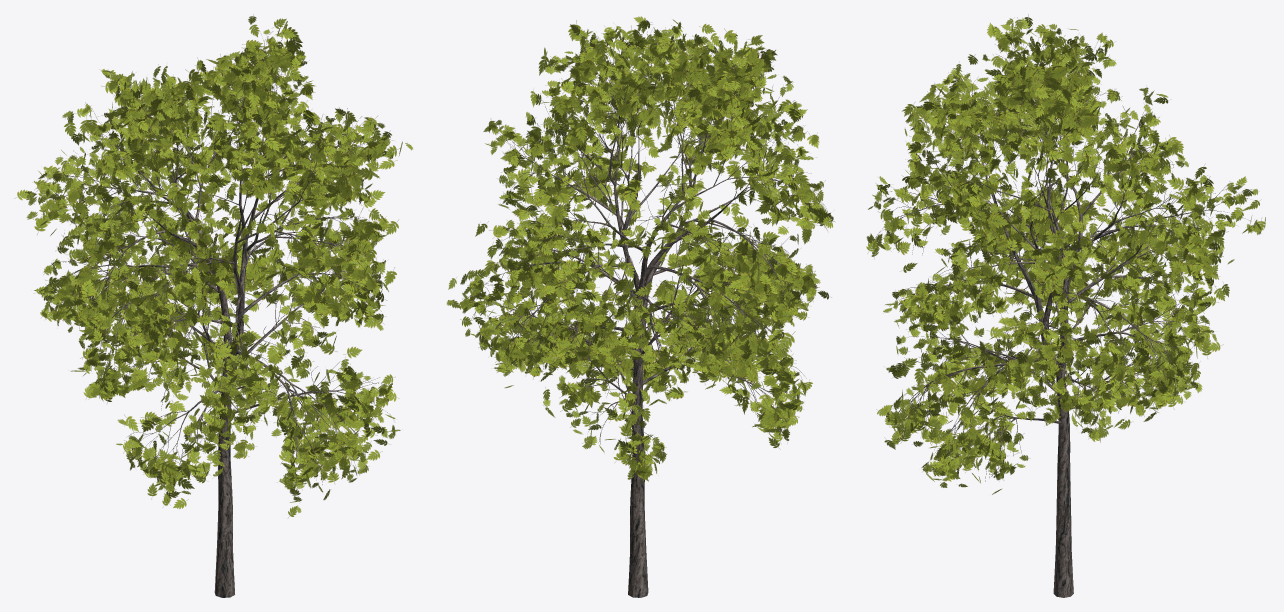
File: tree_01_lod2.glb
The picture shows the model from 3 angles, left to right: view 1: azimuth 30°, elevation 25°; view 2: azimuth 150°, elevation 25°; view 3: azimuth 270°, elevation 25°; orthographic projection. The views are drawn at different scales.
Parts seen in each view (by area): view 1: Tree_01_LOD2; view 2: Tree_01_LOD2; view 3: Tree_01_LOD2.
Part boxes in pixels (box(x1,y1,x2,y2)): Tree_01_LOD2: box(14, 14, 412, 597); Tree_01_LOD2: box(446, 16, 834, 597); Tree_01_LOD2: box(866, 14, 1265, 597).
Bounding box in the file's own units: 9.3 × 14.12 × 9.64.
3 materials, 3 textured.
